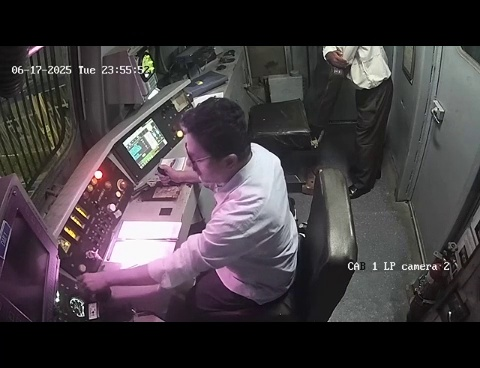horn_active: (70, 261, 131, 320)
